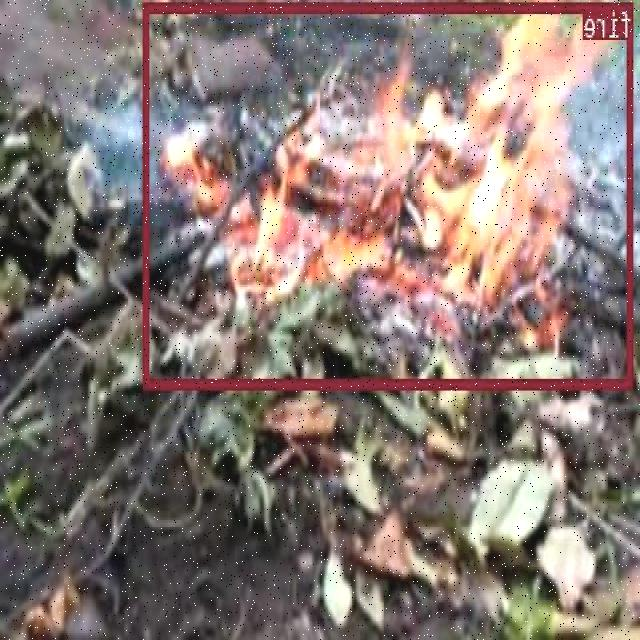fire: (144, 0, 634, 388)
